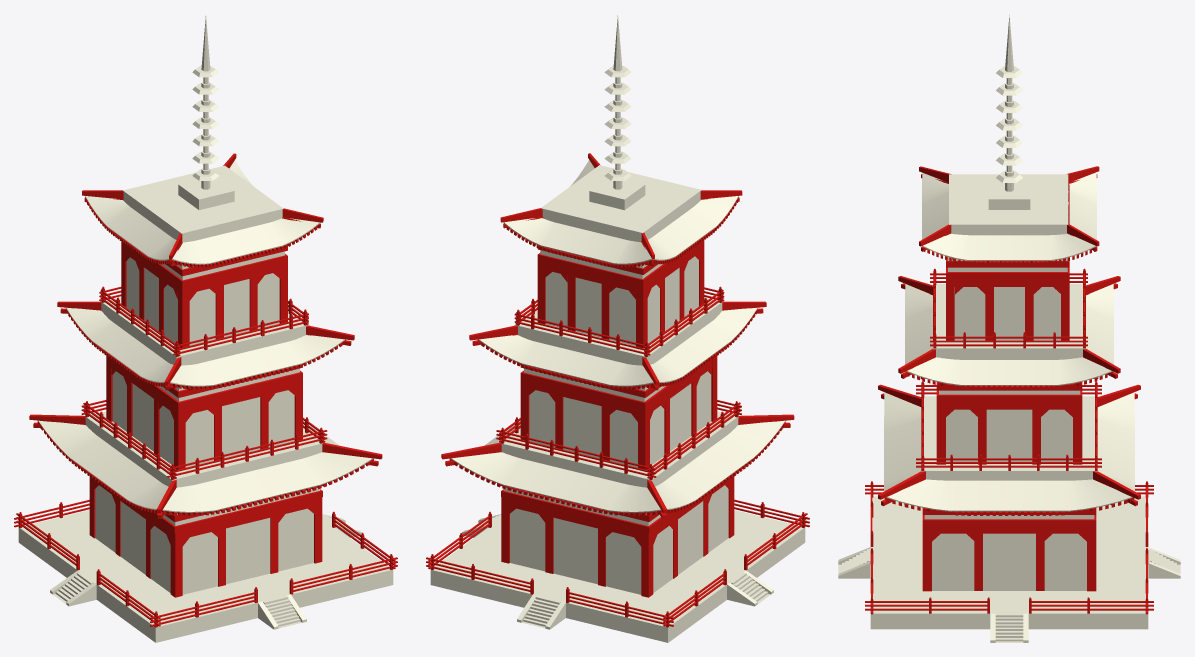
The model's file is TEMPLO GRANDE.fbx.
The picture shows the model from 3 angles, left to right: view 1: azimuth 30°, elevation 25°; view 2: azimuth 150°, elevation 25°; view 3: azimuth 270°, elevation 25°; orthographic projection.
Parts seen in each view (by area): view 1: TEMPLO; view 2: TEMPLO; view 3: TEMPLO.
Part boxes in pixels (box(x1,y1,x2,y2)): TEMPLO: box(14, 16, 397, 642); TEMPLO: box(426, 15, 809, 642); TEMPLO: box(838, 14, 1180, 642).
Bounding box in the file's own units: 2467 × 4425 × 2467.
